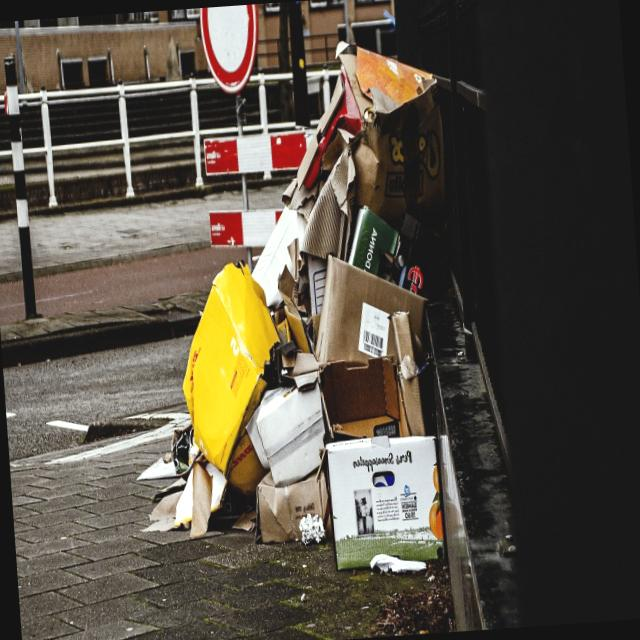garbage: (140, 26, 486, 587)
